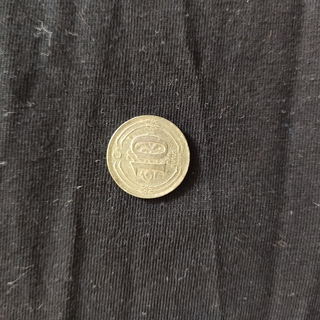10KURUS: (104, 113, 192, 200)
